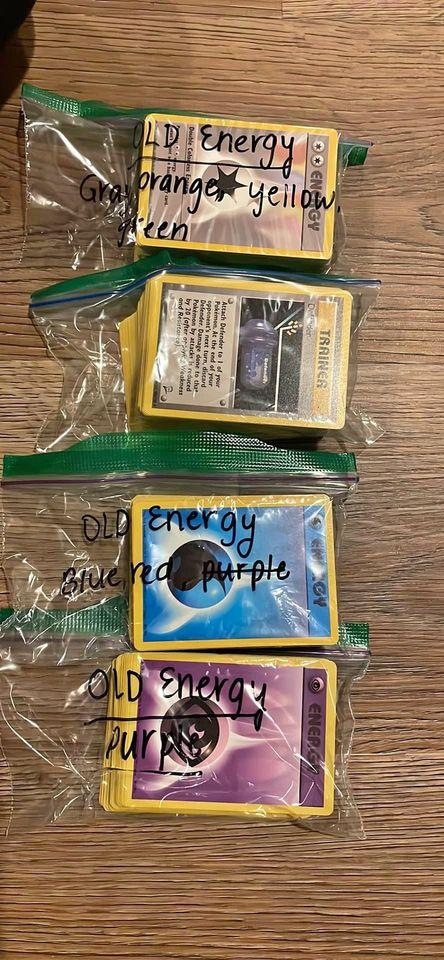card: (121, 652, 340, 817), (131, 493, 346, 655), (138, 274, 354, 432), (134, 114, 342, 260)
